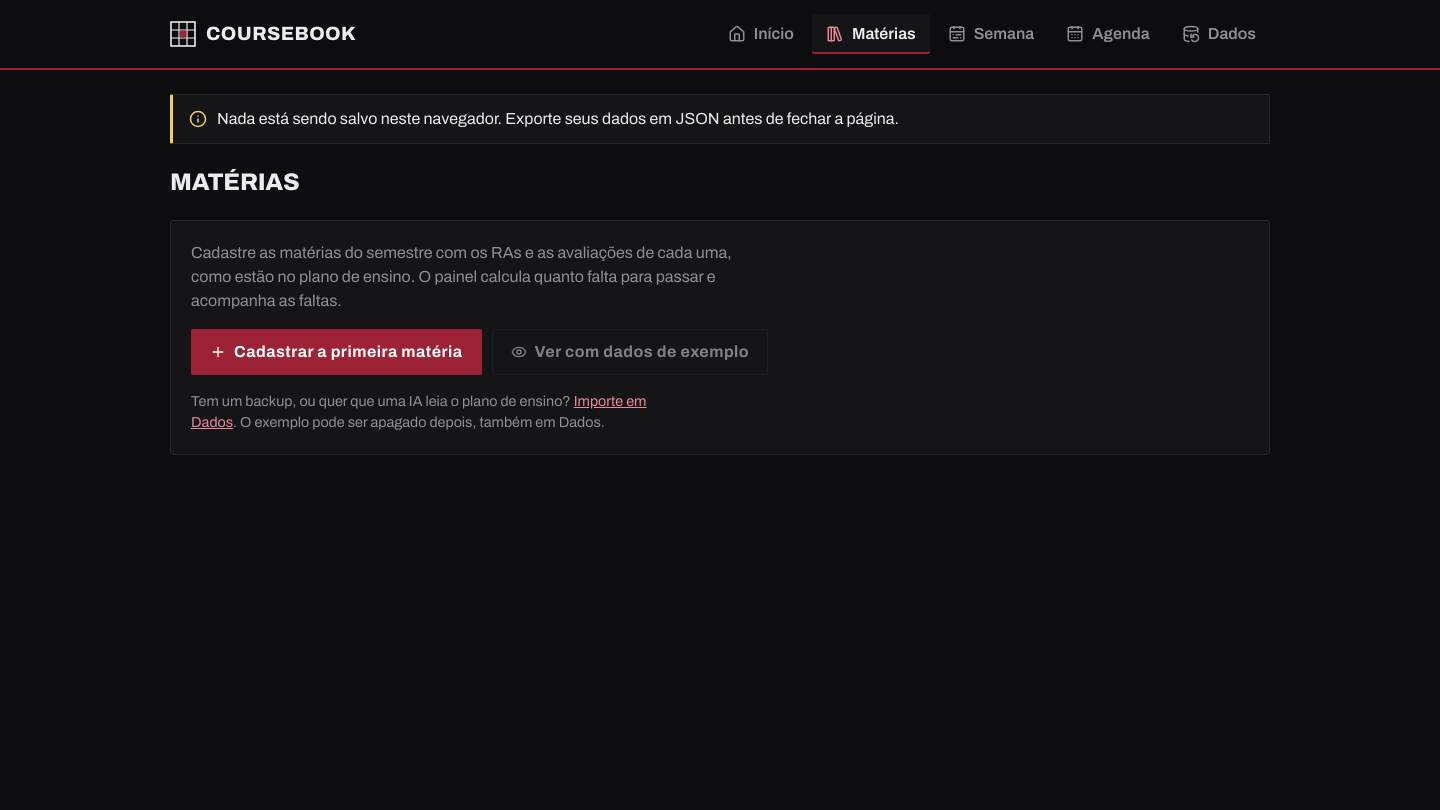
it: App › troca de tela pelas abas
Click the link "Agenda" at (1108, 34), box [1066,25,1150,43]
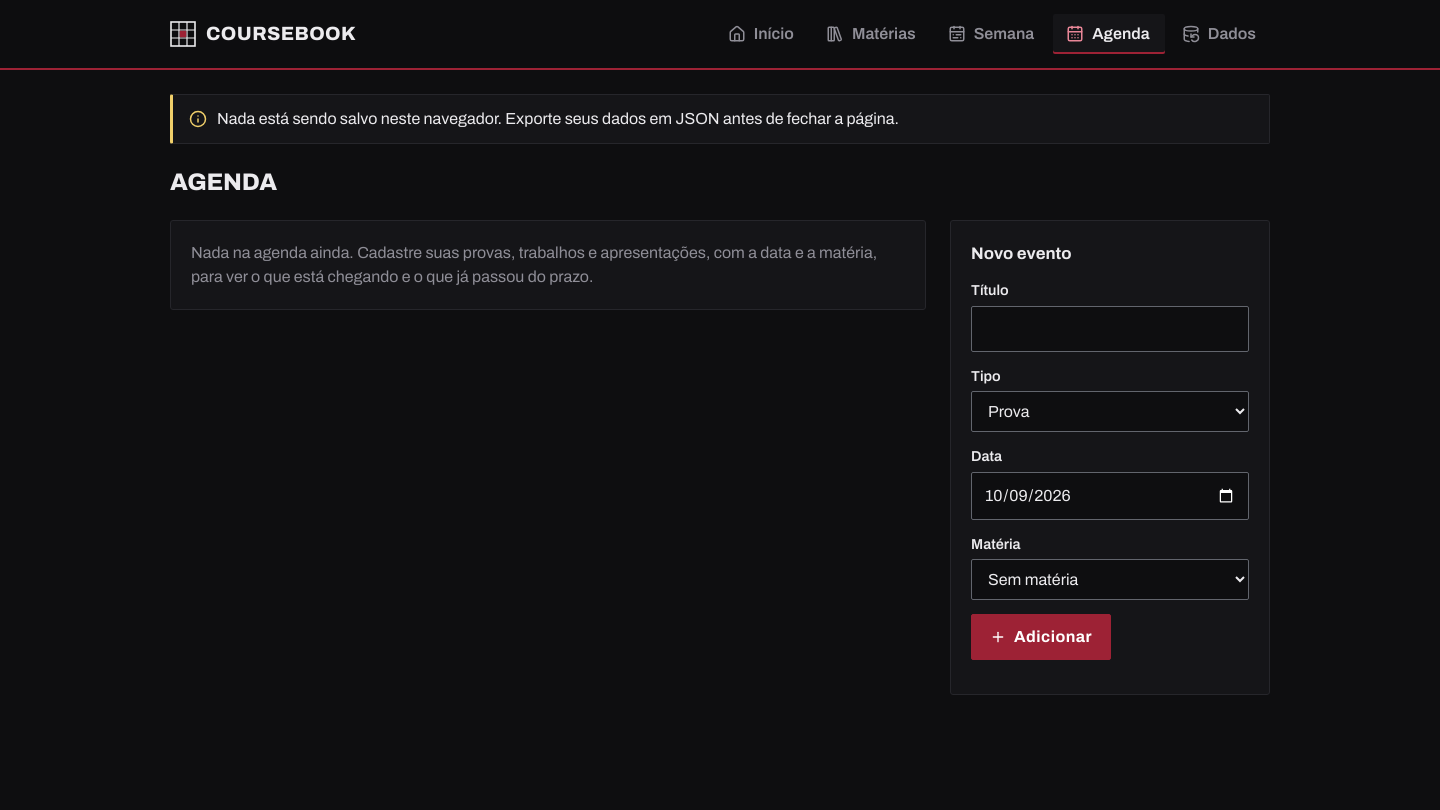
expect the heading "Agenda" is shown: met, box [170,169,277,195]
